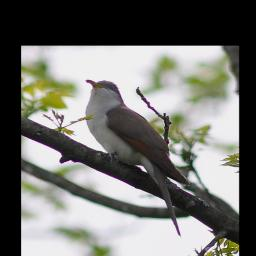Cuckoo: (84, 79, 191, 240)
